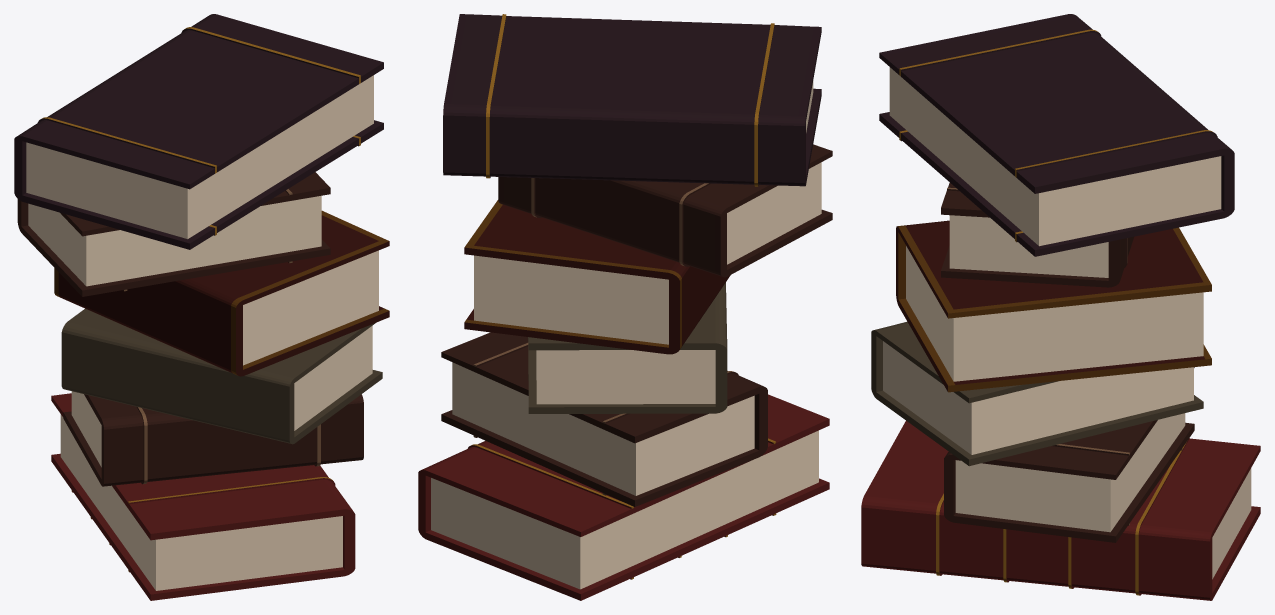
File: Buchstapel1.fbx
3 views of the same model, side by side, from view 1: azimuth 30°, elevation 25°; view 2: azimuth 150°, elevation 25°; view 3: azimuth 270°, elevation 25° (orthographic). The views are drawn at different scales.
Parts seen in each view (by area): view 1: Buch1.023; view 2: Buch1.023; view 3: Buch1.023.
Boxes of the visible parts, <box> form: Buch1.023: <box>14,14,389,600</box>; Buch1.023: <box>418,14,832,600</box>; Buch1.023: <box>861,14,1260,600</box>.
Size of the model in its own units: 109 by 127 by 104.
